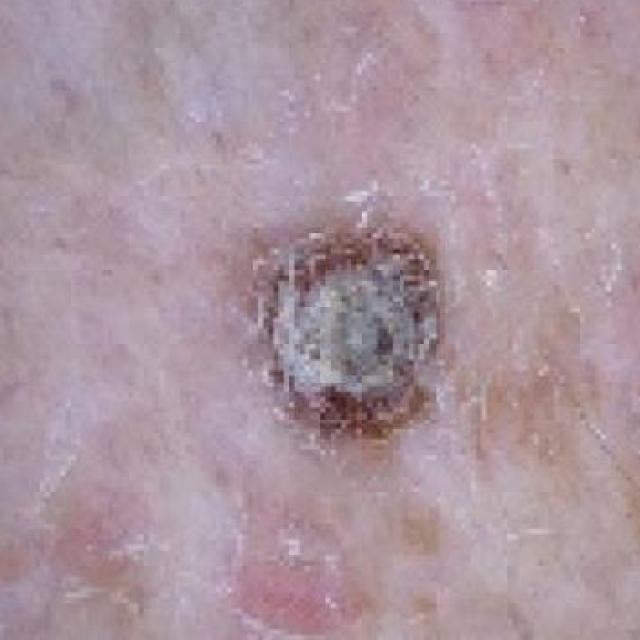AKIEC: (205, 30, 471, 539)
